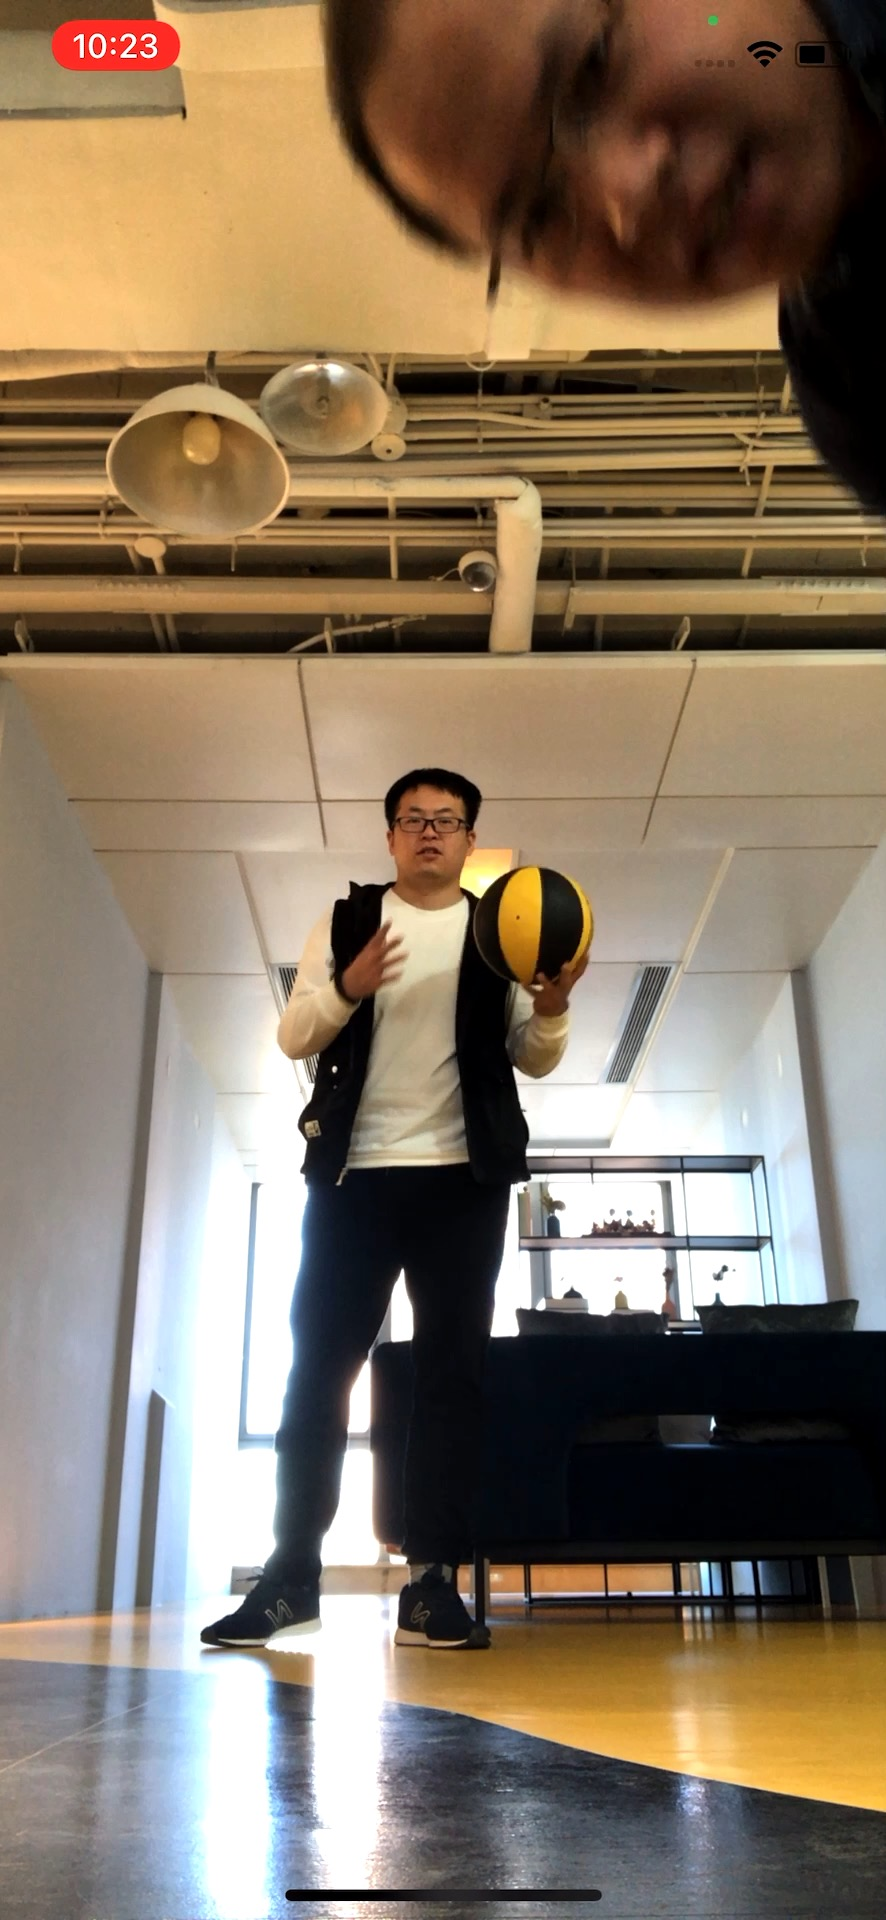ball: (472, 863, 594, 988)
